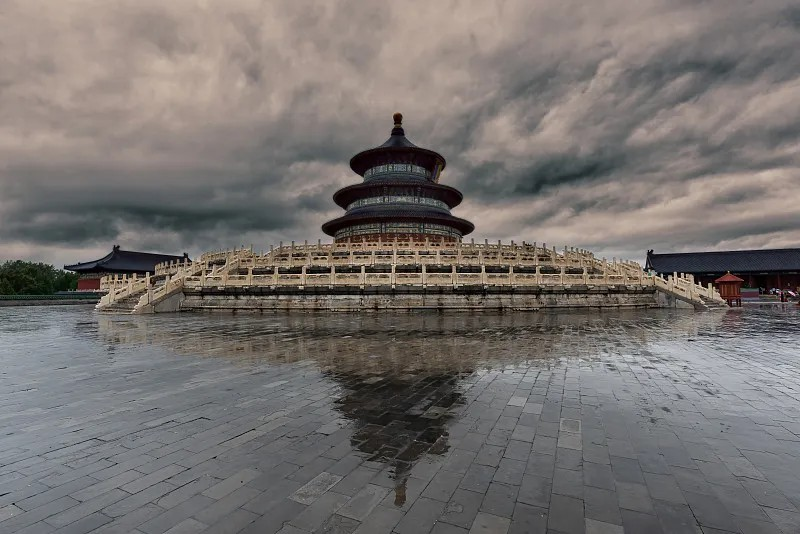Heaven: (321, 112, 476, 245)
